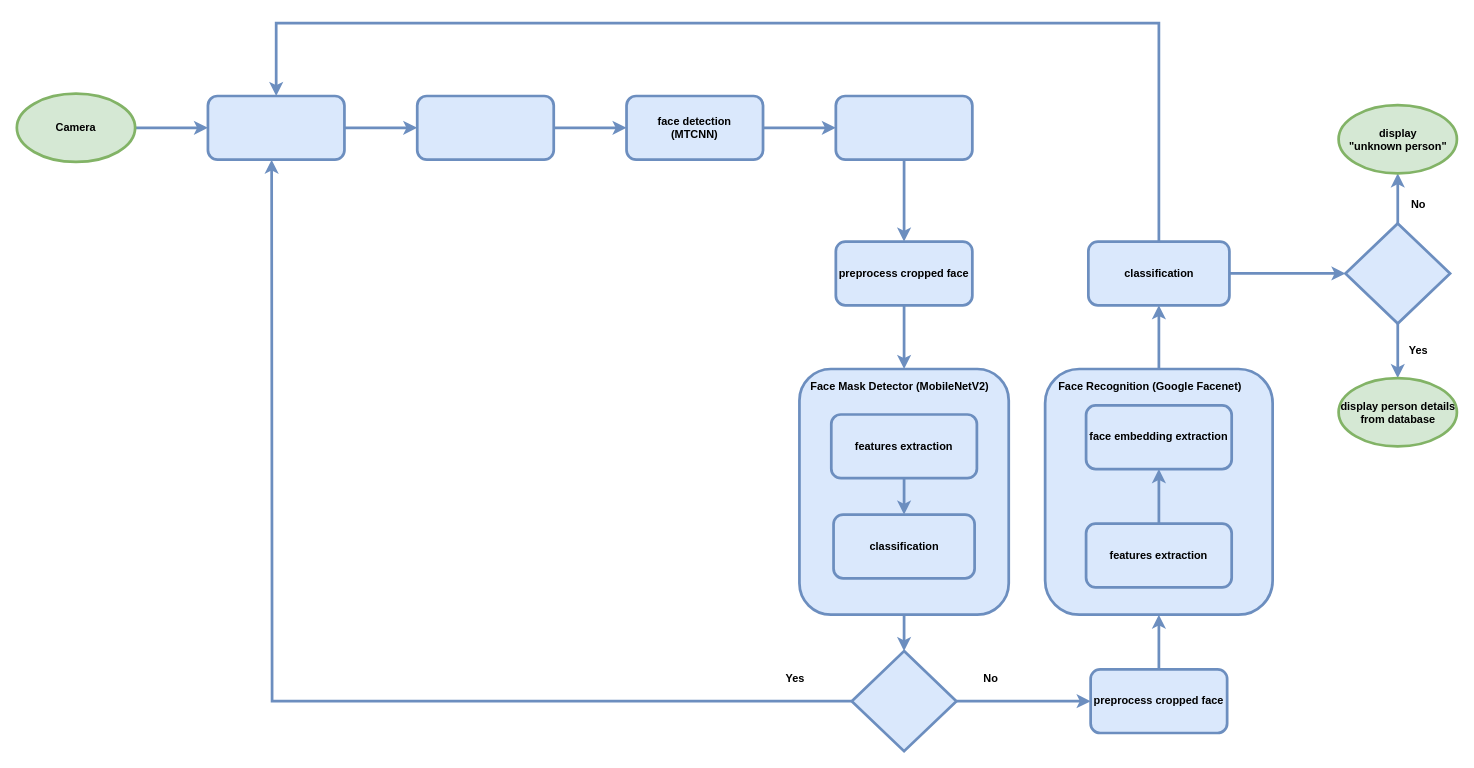
Some shapes in this 1474 by 768 pixel diagram are drawn without their labels. Each missing label, with the box of its shape:
crop face: (834, 94, 973, 161)
Extract Frame: (206, 94, 345, 161)
Is person recognized?: (1344, 222, 1451, 324)
Is the person wearing mask?: (850, 649, 957, 752)
Preprocess frame: (415, 94, 555, 161)
